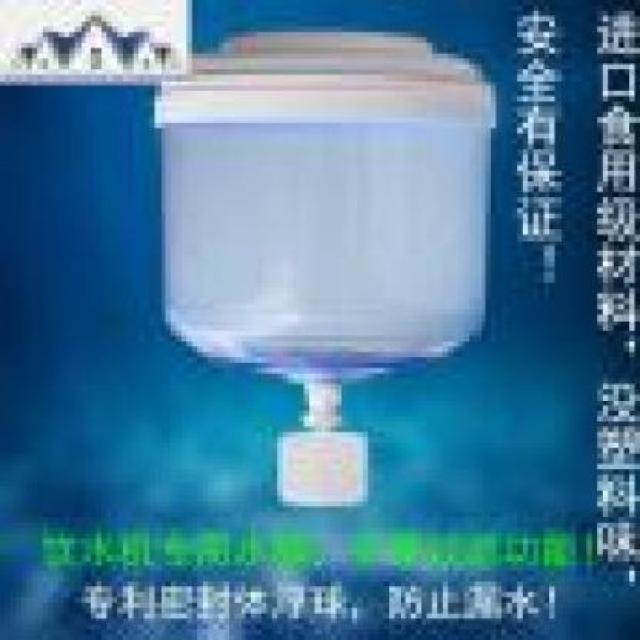coolerbottle: (151, 22, 502, 390)
